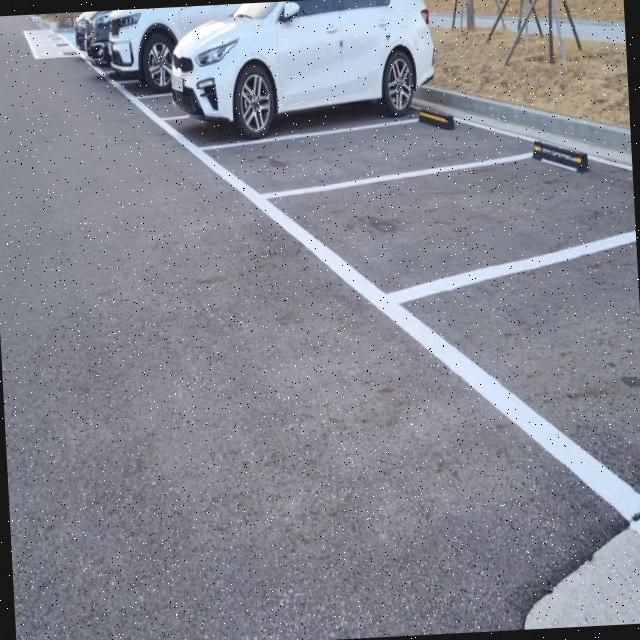empty: (252, 143, 639, 324), (197, 106, 541, 203)
occupied: (156, 0, 439, 159), (104, 7, 180, 116)
